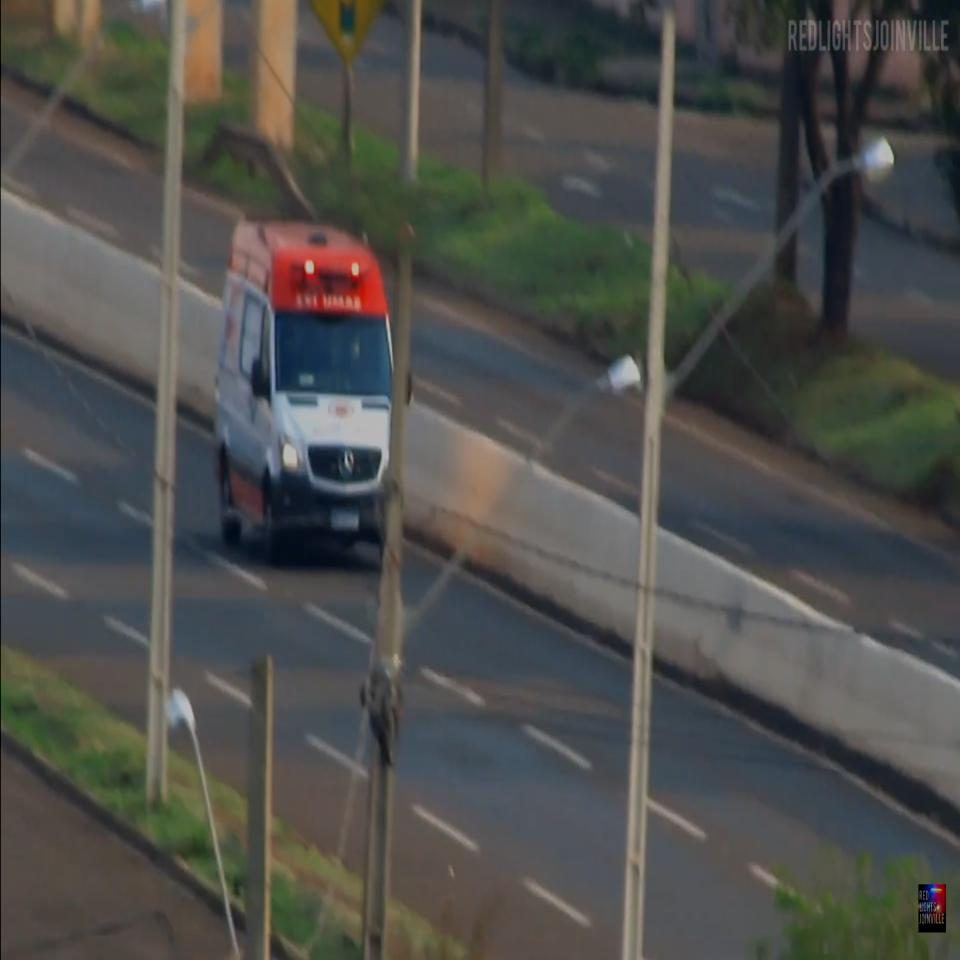ambulancia: (213, 213, 392, 552)
